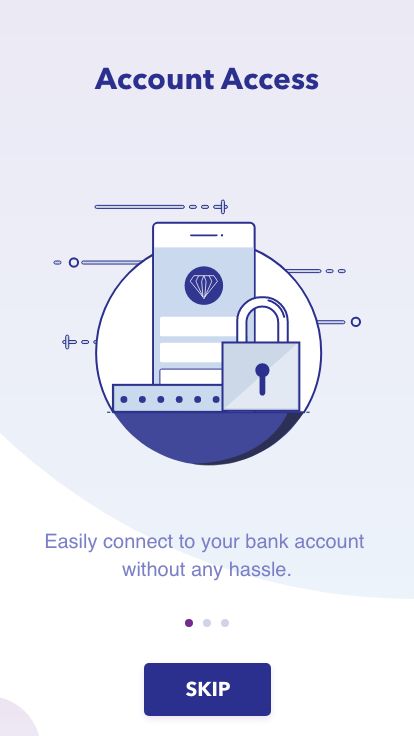Image: (54, 200, 361, 466)
PageIndicator: (185, 618, 230, 628)
Text: (46, 532, 365, 581), (95, 68, 319, 91)
TextButton: (144, 663, 272, 716)
